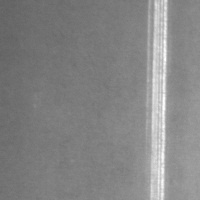scratches: (144, 0, 172, 199)
